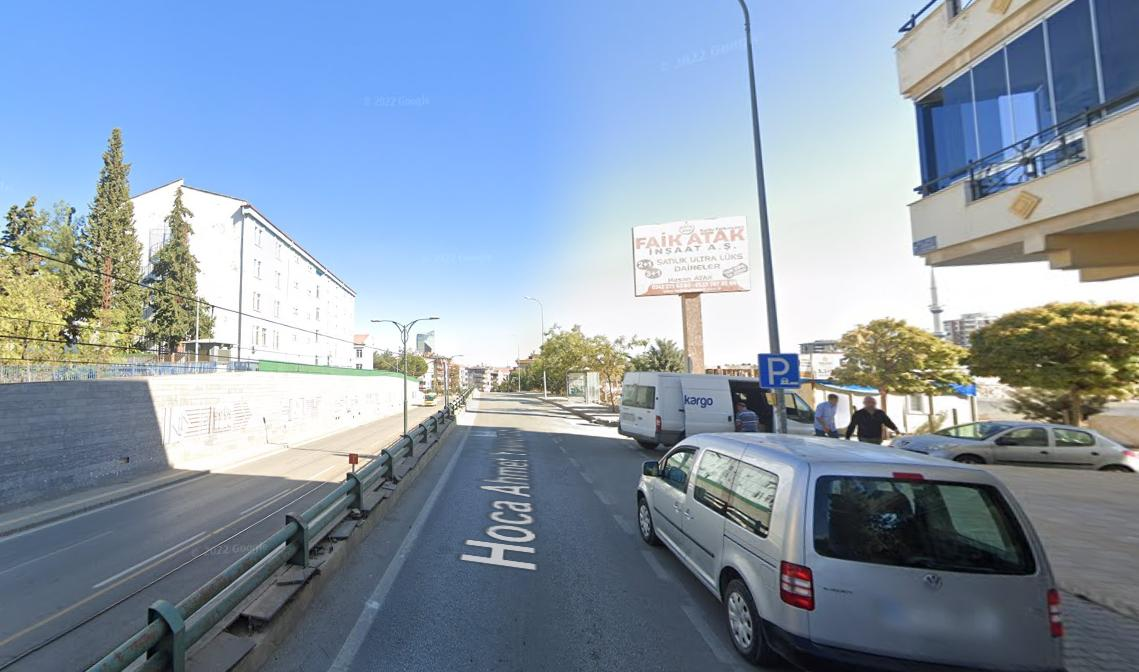park: (760, 355, 799, 389)
